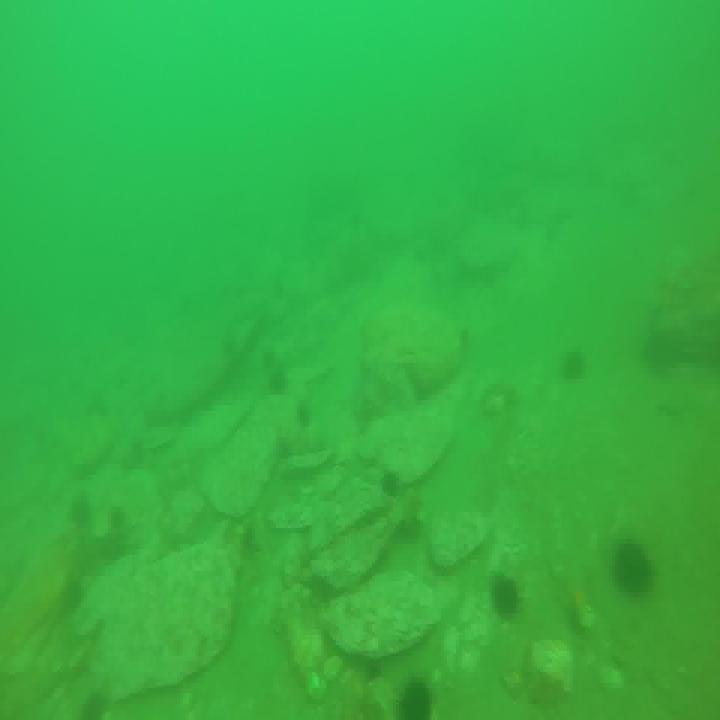echinus: (610, 541, 660, 599), (398, 676, 434, 720), (491, 573, 520, 620), (562, 349, 588, 382), (70, 495, 92, 527), (380, 469, 400, 498), (270, 372, 288, 395)
